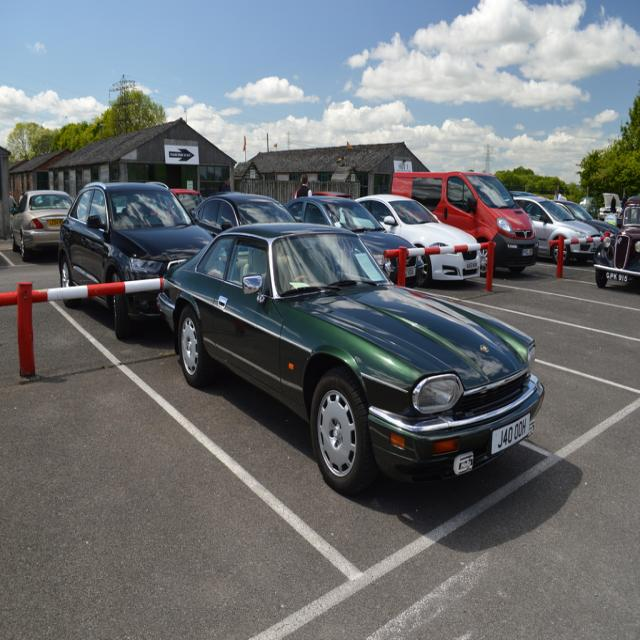car: (156, 217, 546, 496)
